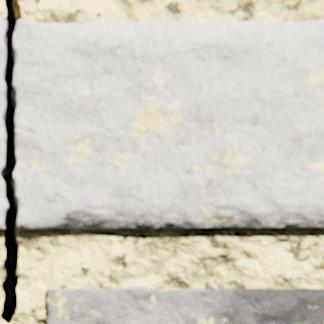brick: (45, 287, 323, 323)
broken_brick: (12, 20, 323, 231), (0, 22, 8, 230)
crack: (0, 0, 20, 323)
